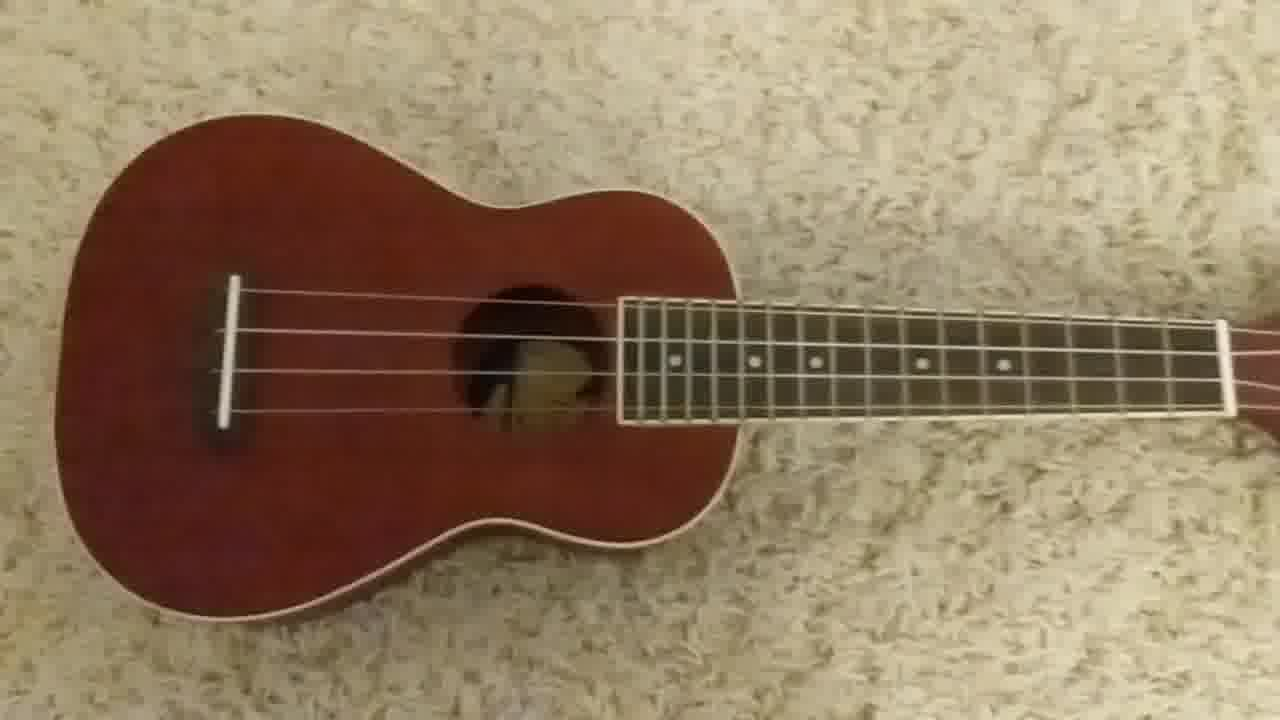Body: (50, 112, 746, 627)
Bridge: (207, 271, 256, 434)
